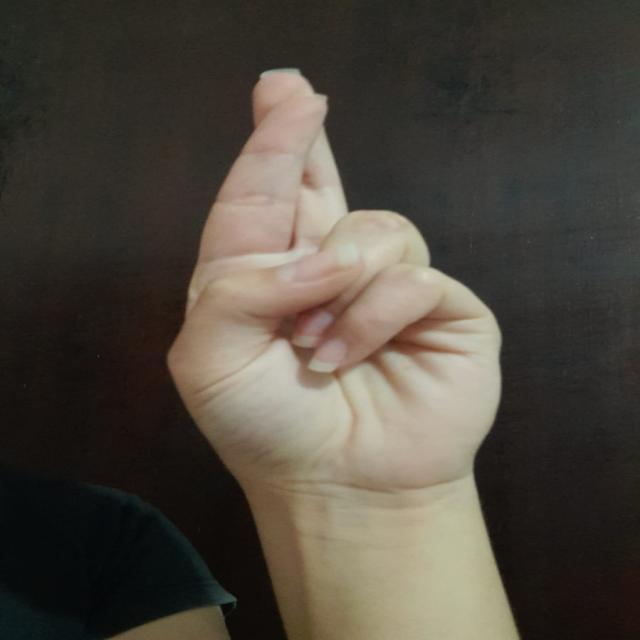R: (153, 64, 530, 490)
